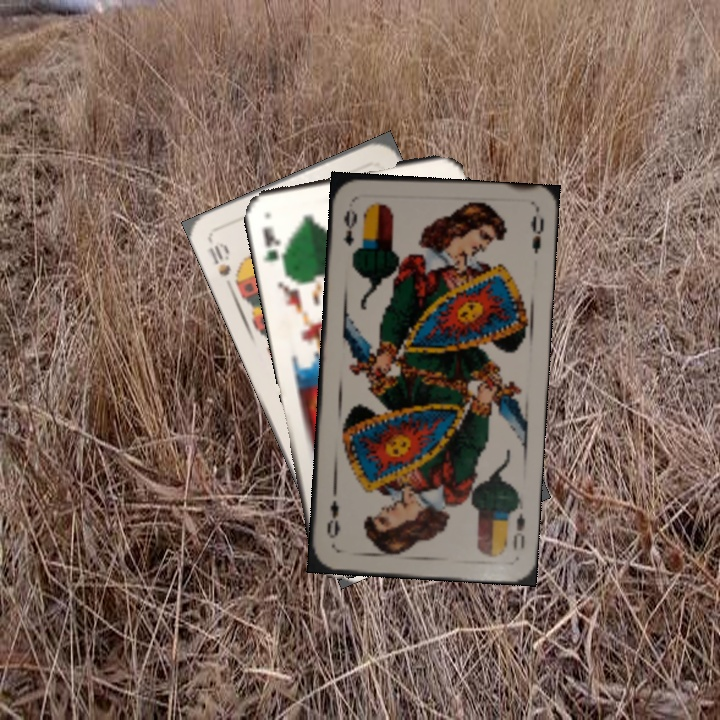EO: (339, 204, 360, 248), (509, 509, 528, 553)
GK: (259, 223, 288, 268)
S10: (203, 238, 244, 289)
